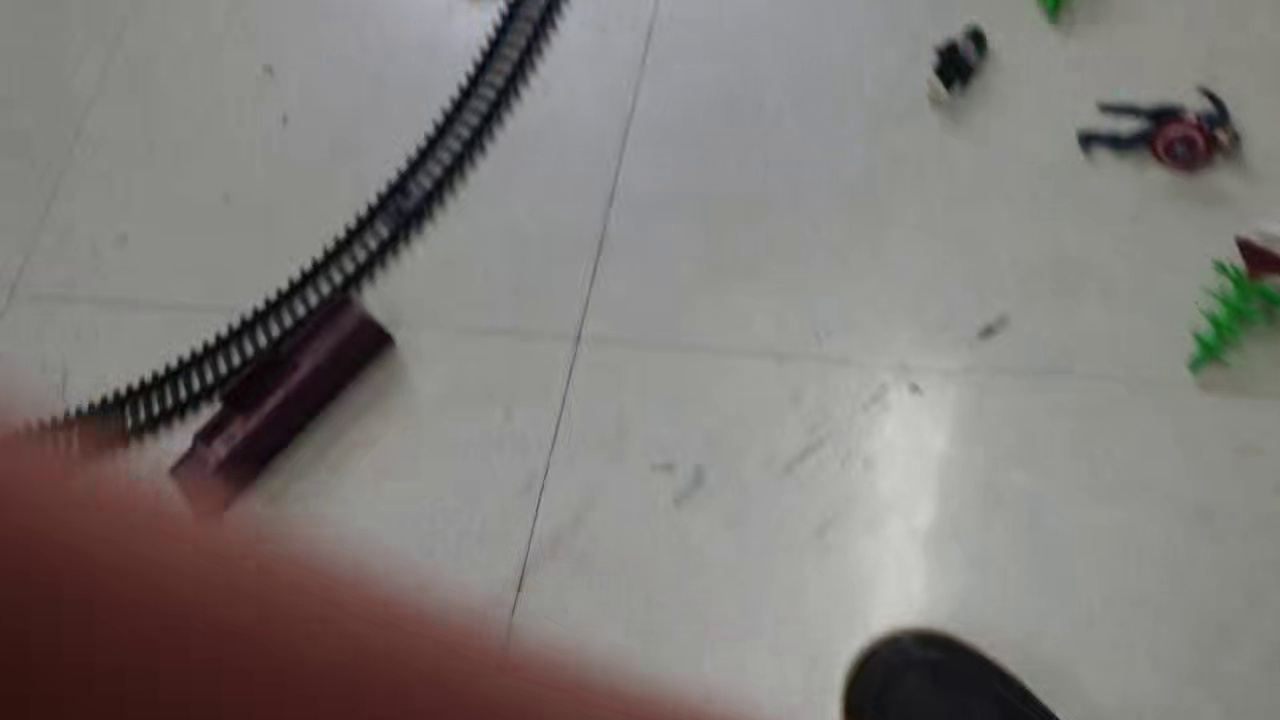people: (1072, 86, 1244, 175), (927, 24, 993, 106)
tree: (1180, 231, 1280, 390)
